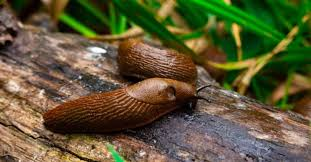slug: (46, 82, 207, 133), (119, 36, 200, 90)
